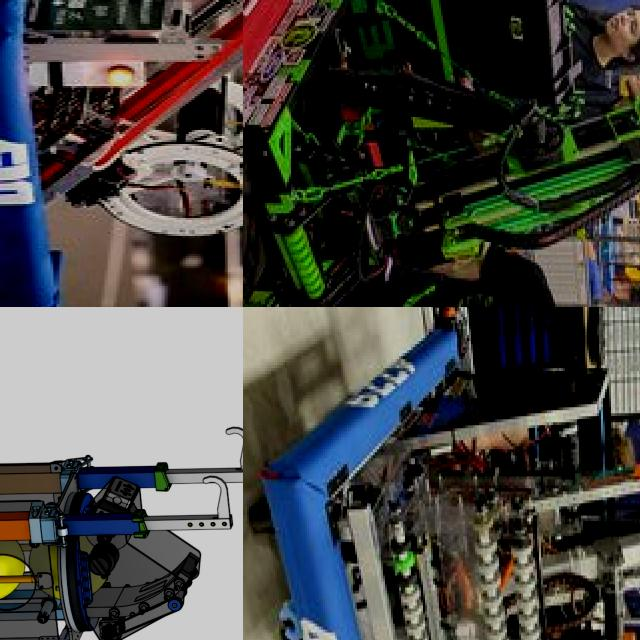FRC-Robots: (243, 0, 640, 307), (302, 307, 640, 640), (0, 307, 243, 640), (0, 0, 243, 307)
